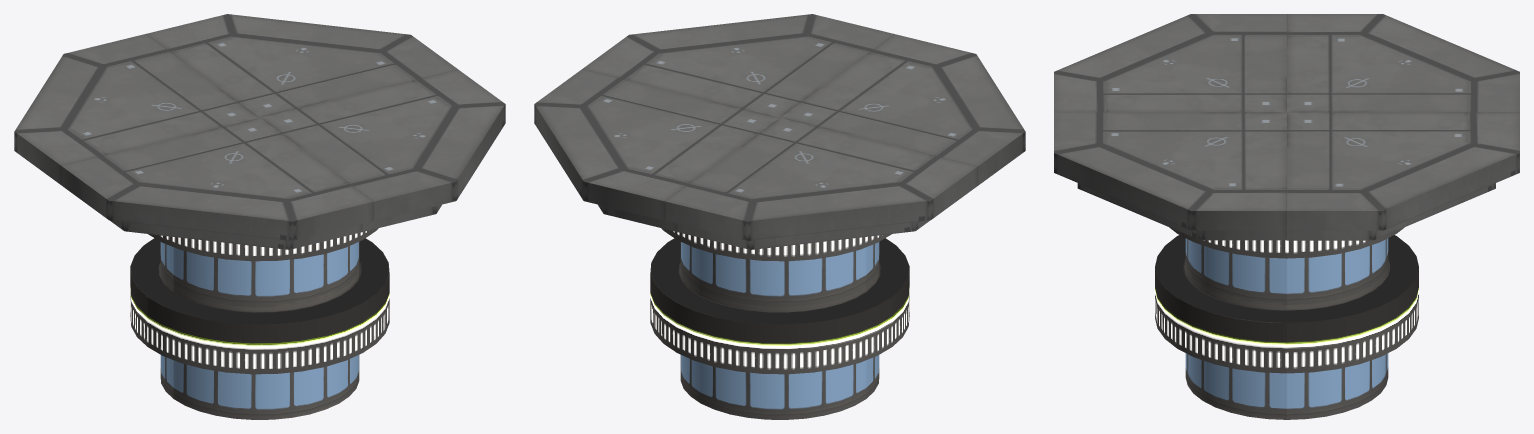
File: Sci-Fi_Prefab_Var16-A.fbx
The picture shows the model from 3 angles, left to right: view 1: azimuth 30°, elevation 25°; view 2: azimuth 150°, elevation 25°; view 3: azimuth 270°, elevation 25°; orthographic projection.
Visible parts, largest first — view 1: ProjectRG_Environment_Sci-Fi_OctagonPlatform.046, ProjectRG_Environment_Sci-Fi_OctagonPlatform.047, ProjectRG_Environment_Sci-Fi_OctagonPlatform.045, ProjectRG_Environment_Sci-Fi_DonutViewingBlock.029, ProjectRG_Environment_Sci-Fi_OctagonPlatform.048, ProjectRG_Environment_Sci-Fi_TowerGlassBlock.030, ProjectRG_Environment_Sci-Fi_TowerGlassBlock.029, ProjectRG_Environment_Sci-Fi_DonutViewingBlock.031, ProjectRG_Environment_Sci-Fi_OctagonPlatform.050, ProjectRG_Environment_Sci-Fi_OctagonPlatform.051; view 2: ProjectRG_Environment_Sci-Fi_OctagonPlatform.045, ProjectRG_Environment_Sci-Fi_OctagonPlatform.048, ProjectRG_Environment_Sci-Fi_OctagonPlatform.046, ProjectRG_Environment_Sci-Fi_DonutViewingBlock.029, ProjectRG_Environment_Sci-Fi_OctagonPlatform.047, ProjectRG_Environment_Sci-Fi_TowerGlassBlock.030, ProjectRG_Environment_Sci-Fi_TowerGlassBlock.029, ProjectRG_Environment_Sci-Fi_DonutViewingBlock.031, ProjectRG_Environment_Sci-Fi_OctagonPlatform.049, ProjectRG_Environment_Sci-Fi_OctagonPlatform.052; view 3: ProjectRG_Environment_Sci-Fi_OctagonPlatform.047, ProjectRG_Environment_Sci-Fi_OctagonPlatform.048, ProjectRG_Environment_Sci-Fi_DonutViewingBlock.029, ProjectRG_Environment_Sci-Fi_OctagonPlatform.046, ProjectRG_Environment_Sci-Fi_OctagonPlatform.045, ProjectRG_Environment_Sci-Fi_TowerGlassBlock.030, ProjectRG_Environment_Sci-Fi_TowerGlassBlock.029, ProjectRG_Environment_Sci-Fi_DonutViewingBlock.031, ProjectRG_Environment_Sci-Fi_OctagonPlatform.051, ProjectRG_Environment_Sci-Fi_OctagonPlatform.052.
Part boxes in pixels (x1=…): ProjectRG_Environment_Sci-Fi_OctagonPlatform.046: x1=61, y1=118, x2=374, y2=240; ProjectRG_Environment_Sci-Fi_OctagonPlatform.047: x1=260, y1=69, x2=505, y2=220; ProjectRG_Environment_Sci-Fi_OctagonPlatform.045: x1=14, y1=34, x2=259, y2=185; ProjectRG_Environment_Sci-Fi_DonutViewingBlock.029: x1=130, y1=238, x2=389, y2=374; ProjectRG_Environment_Sci-Fi_OctagonPlatform.048: x1=146, y1=14, x2=457, y2=117; ProjectRG_Environment_Sci-Fi_TowerGlassBlock.030: x1=160, y1=266, x2=359, y2=419; ProjectRG_Environment_Sci-Fi_TowerGlassBlock.029: x1=160, y1=242, x2=359, y2=306; ProjectRG_Environment_Sci-Fi_DonutViewingBlock.031: x1=148, y1=228, x2=378, y2=261; ProjectRG_Environment_Sci-Fi_OctagonPlatform.050: x1=110, y1=220, x2=362, y2=249; ProjectRG_Environment_Sci-Fi_OctagonPlatform.051: x1=362, y1=204, x2=441, y2=231; ProjectRG_Environment_Sci-Fi_OctagonPlatform.045: x1=665, y1=118, x2=978, y2=240; ProjectRG_Environment_Sci-Fi_OctagonPlatform.048: x1=534, y1=69, x2=779, y2=220; ProjectRG_Environment_Sci-Fi_OctagonPlatform.046: x1=780, y1=34, x2=1025, y2=185; ProjectRG_Environment_Sci-Fi_DonutViewingBlock.029: x1=650, y1=238, x2=909, y2=374; ProjectRG_Environment_Sci-Fi_OctagonPlatform.047: x1=582, y1=14, x2=893, y2=117; ProjectRG_Environment_Sci-Fi_TowerGlassBlock.030: x1=680, y1=266, x2=879, y2=419; ProjectRG_Environment_Sci-Fi_TowerGlassBlock.029: x1=680, y1=242, x2=879, y2=306; ProjectRG_Environment_Sci-Fi_DonutViewingBlock.031: x1=661, y1=228, x2=891, y2=261; ProjectRG_Environment_Sci-Fi_OctagonPlatform.049: x1=677, y1=220, x2=929, y2=249; ProjectRG_Environment_Sci-Fi_OctagonPlatform.052: x1=598, y1=204, x2=677, y2=231; ProjectRG_Environment_Sci-Fi_OctagonPlatform.047: x1=1054, y1=112, x2=1286, y2=230; ProjectRG_Environment_Sci-Fi_OctagonPlatform.048: x1=1287, y1=112, x2=1519, y2=230; ProjectRG_Environment_Sci-Fi_DonutViewingBlock.029: x1=1155, y1=235, x2=1418, y2=373; ProjectRG_Environment_Sci-Fi_OctagonPlatform.046: x1=1054, y1=14, x2=1286, y2=112; ProjectRG_Environment_Sci-Fi_OctagonPlatform.045: x1=1287, y1=14, x2=1519, y2=112; ProjectRG_Environment_Sci-Fi_TowerGlassBlock.030: x1=1185, y1=263, x2=1388, y2=419; ProjectRG_Environment_Sci-Fi_TowerGlassBlock.029: x1=1185, y1=238, x2=1388, y2=304; ProjectRG_Environment_Sci-Fi_DonutViewingBlock.031: x1=1169, y1=227, x2=1404, y2=258; ProjectRG_Environment_Sci-Fi_OctagonPlatform.051: x1=1077, y1=183, x2=1286, y2=240; ProjectRG_Environment_Sci-Fi_OctagonPlatform.052: x1=1287, y1=183, x2=1495, y2=240.
Size of the model in its own units: 2027 by 1271 by 2027.
